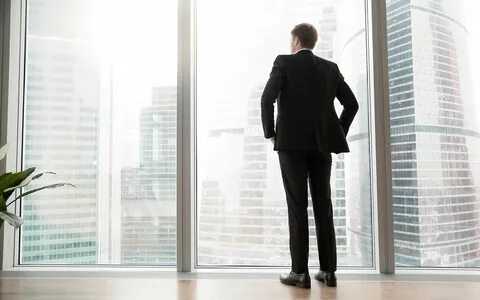awake: (260, 22, 360, 290)
